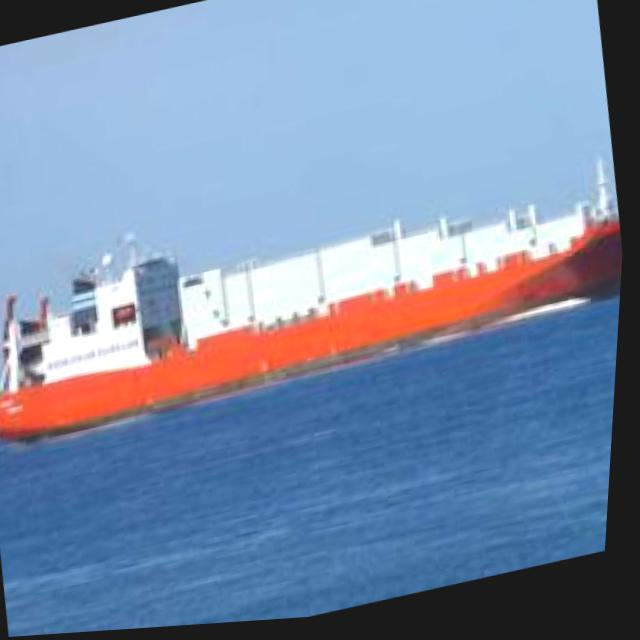ship2: (0, 167, 626, 448)
